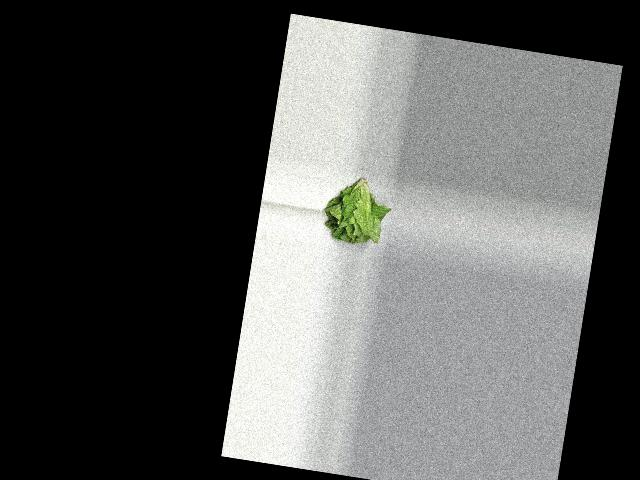lettuce: (316, 167, 394, 251)
